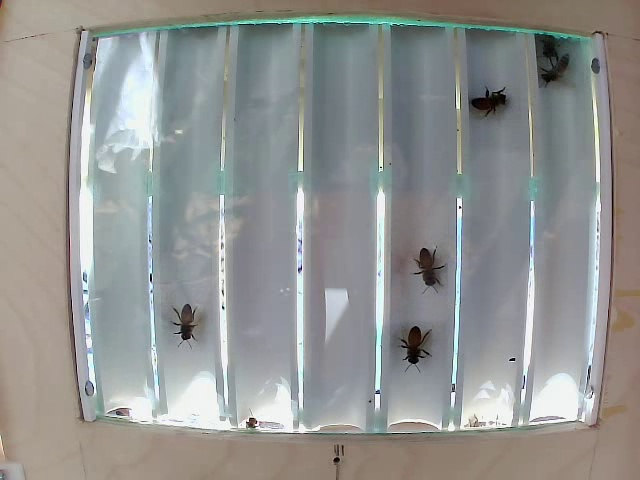bee: (164, 302, 202, 348), (411, 244, 443, 294), (471, 93, 517, 122), (533, 25, 567, 64), (539, 51, 575, 87), (401, 321, 429, 366)
